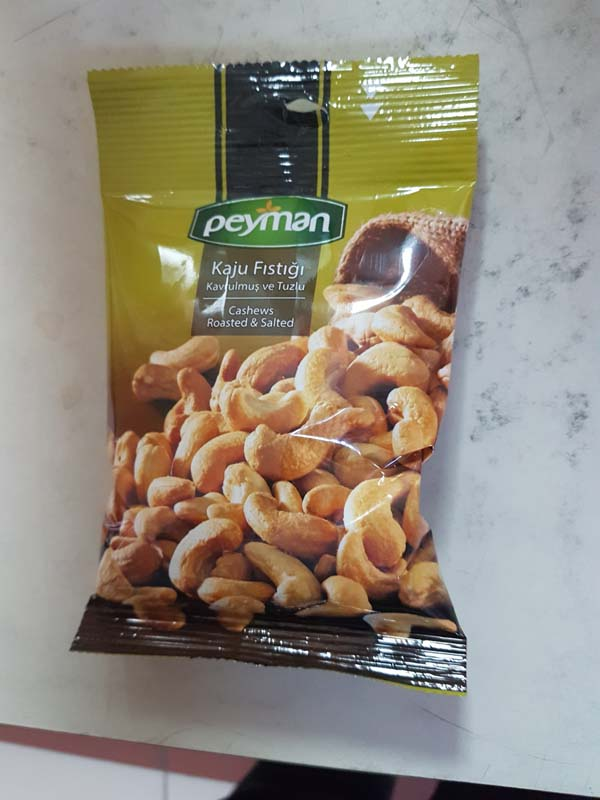kajupeyman: (70, 47, 486, 704)
